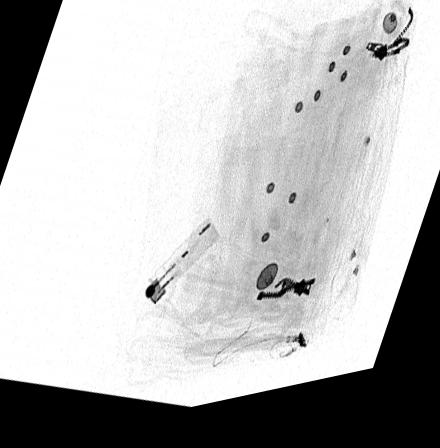Lighter: (142, 227, 219, 312)
